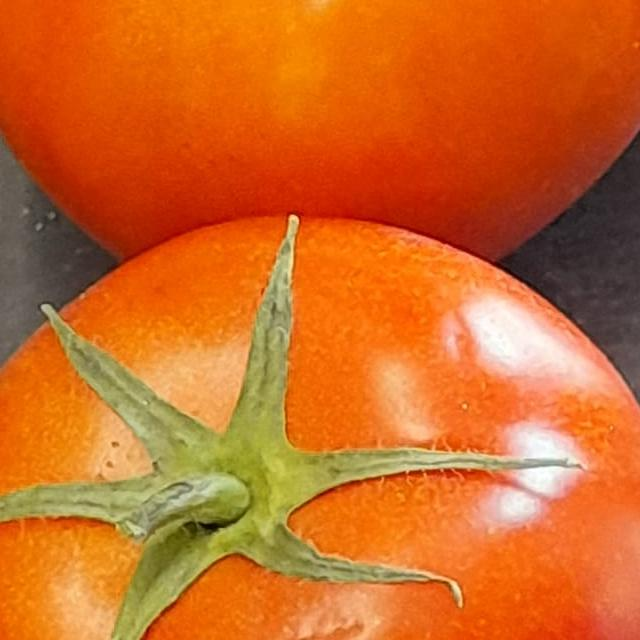tomato: (0, 196, 640, 640), (0, 0, 640, 289)
